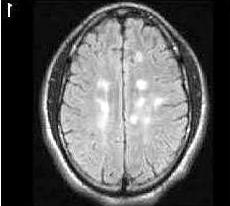Normal_Brain: (24, 4, 223, 206)
